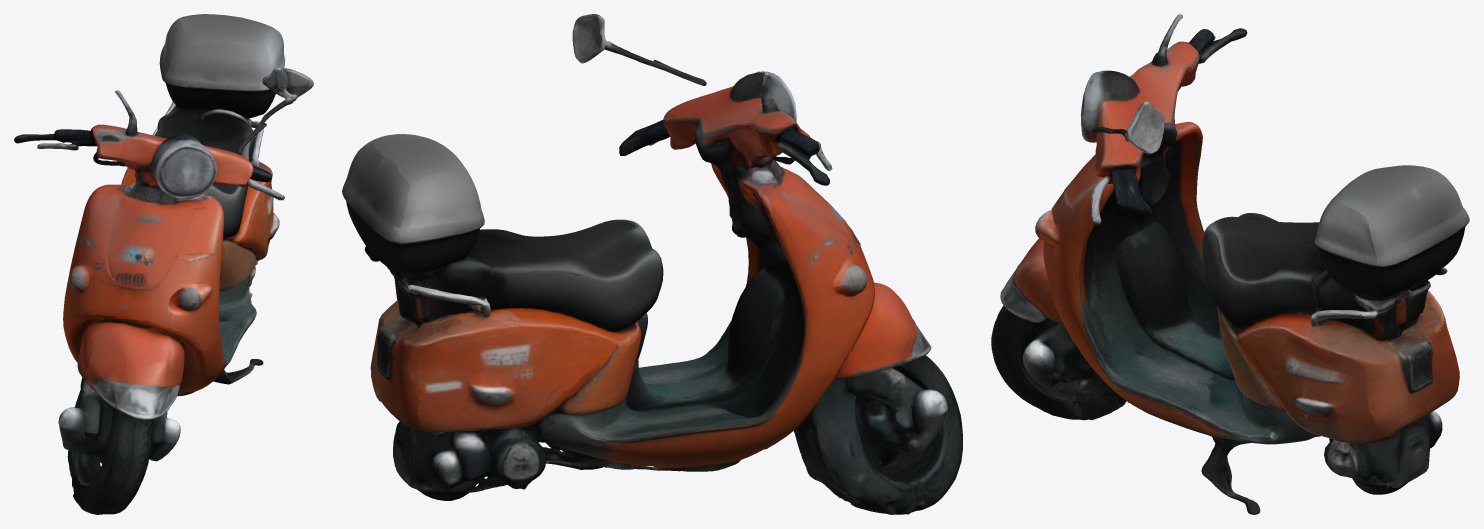
The model's file is scooter.glb.
3 views of the same model, side by side, from view 1: azimuth 30°, elevation 25°; view 2: azimuth 150°, elevation 25°; view 3: azimuth 270°, elevation 25° (orthographic). The views are drawn at different scales.
Visible parts, largest first — view 1: world; view 2: world; view 3: world.
Boxes of the visible parts, x1,y1,x2,y2 form: world: (14,14,313,514); world: (342,14,962,514); world: (991,14,1469,514).
Size of the model in its own units: 1.8 by 1.8 by 1.8.
1 material, 1 textured.
